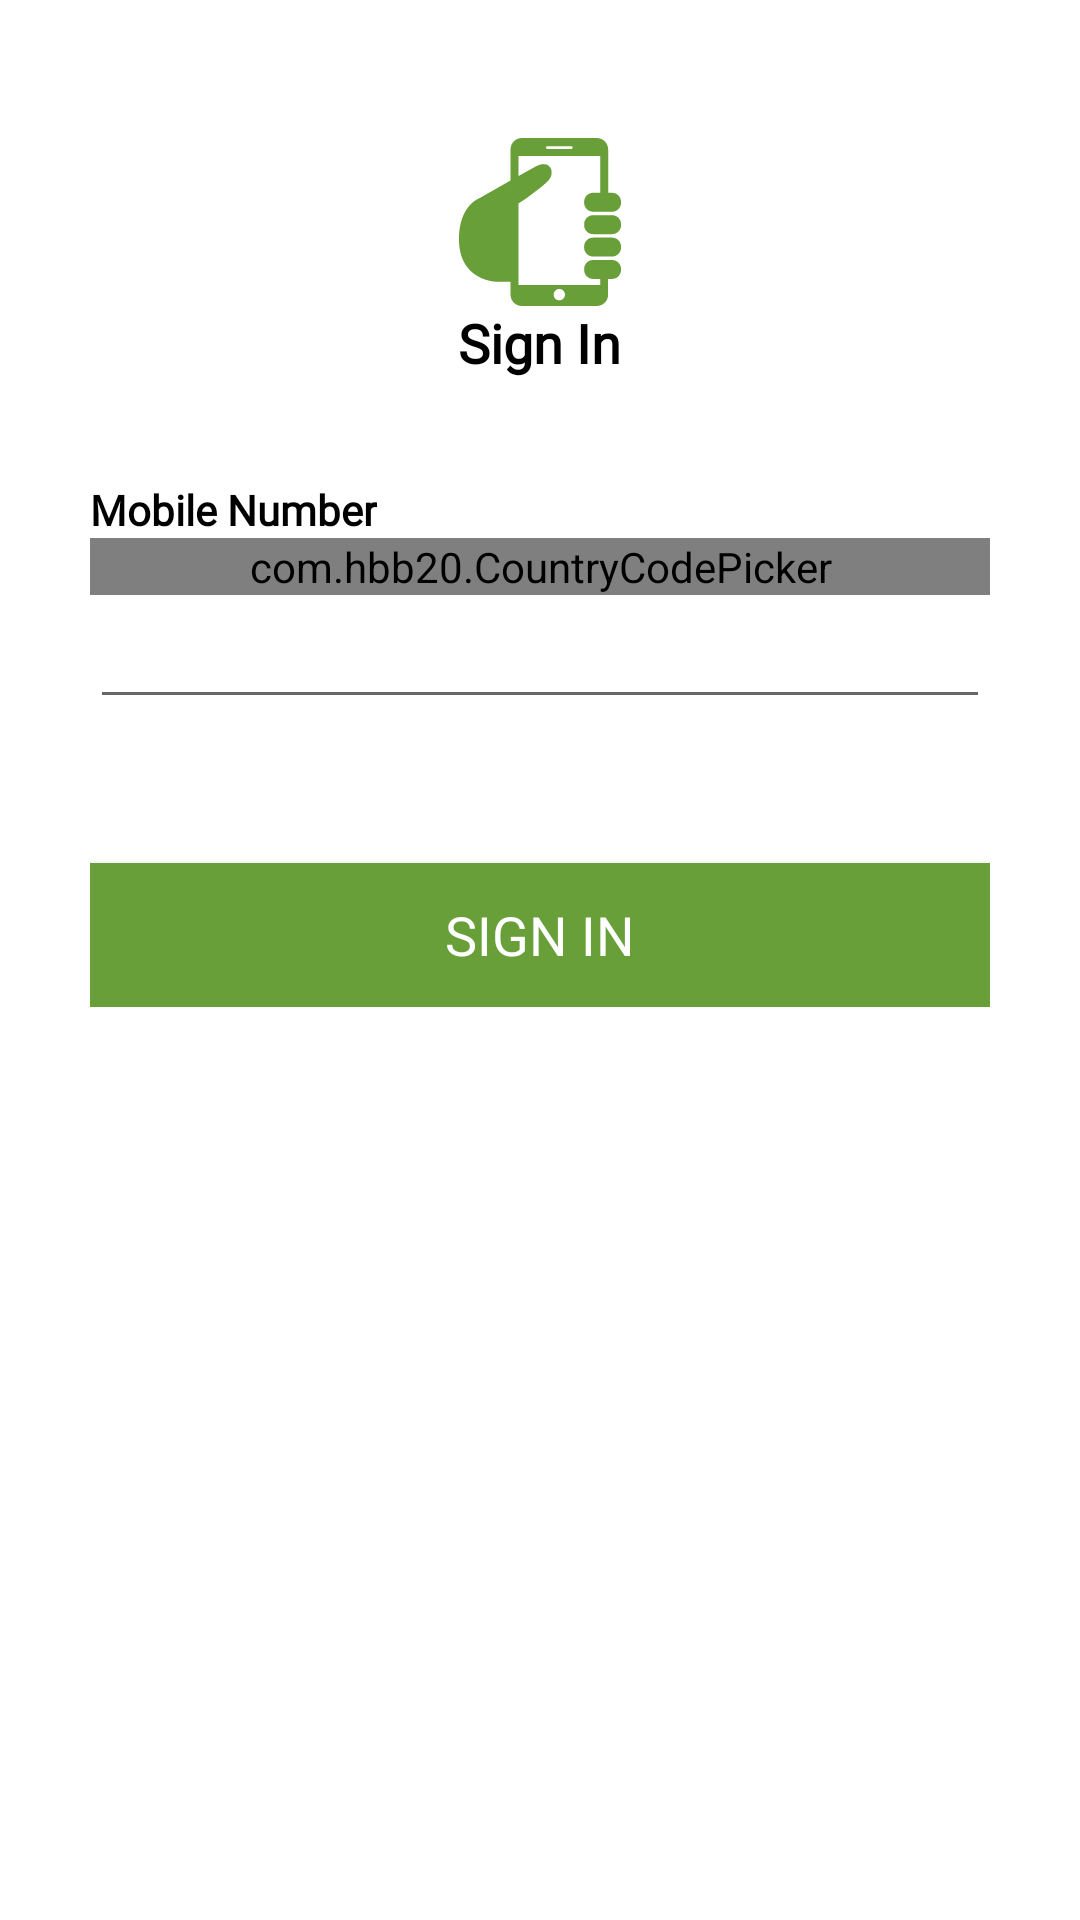

Where to tap for icons on this 1080×1920 app screen, as (x,y):
Mobile Load: (540,222)
